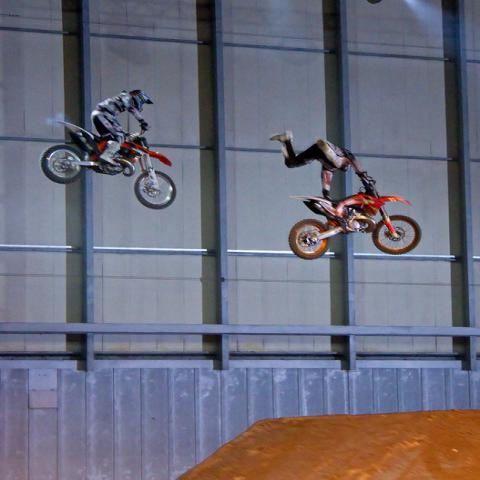motorcycle: (40, 89, 177, 210), (288, 171, 422, 260)
